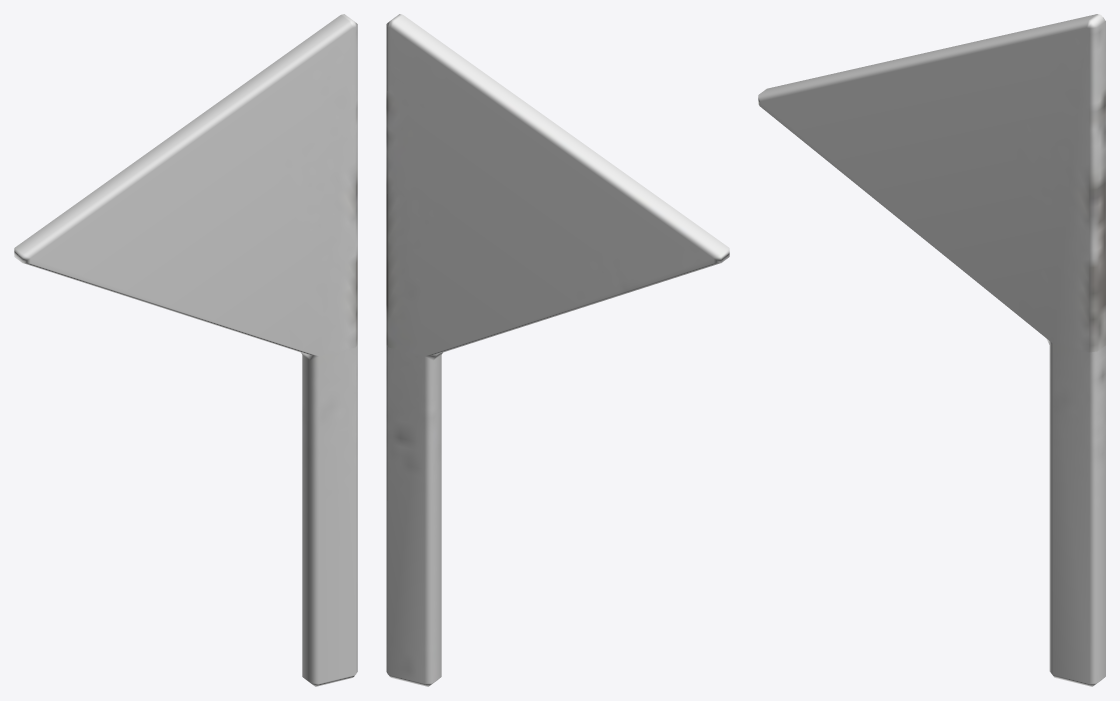
The model's file is 06_FlagWhite.glb.
The picture shows the model from 3 angles, left to right: view 1: azimuth 30°, elevation 25°; view 2: azimuth 150°, elevation 25°; view 3: azimuth 330°, elevation 25°; orthographic projection.
Parts seen in each view (by area): view 1: FlagWhite; view 2: FlagWhite; view 3: FlagWhite.
Boxes of the visible parts, x1,y1,x2,y2 form: FlagWhite: (14, 14, 357, 686); FlagWhite: (386, 14, 729, 686); FlagWhite: (758, 14, 1105, 686).
Size of the model in its own units: 0.1366 by 0.2561 by 0.01.
1 material, 1 textured.
